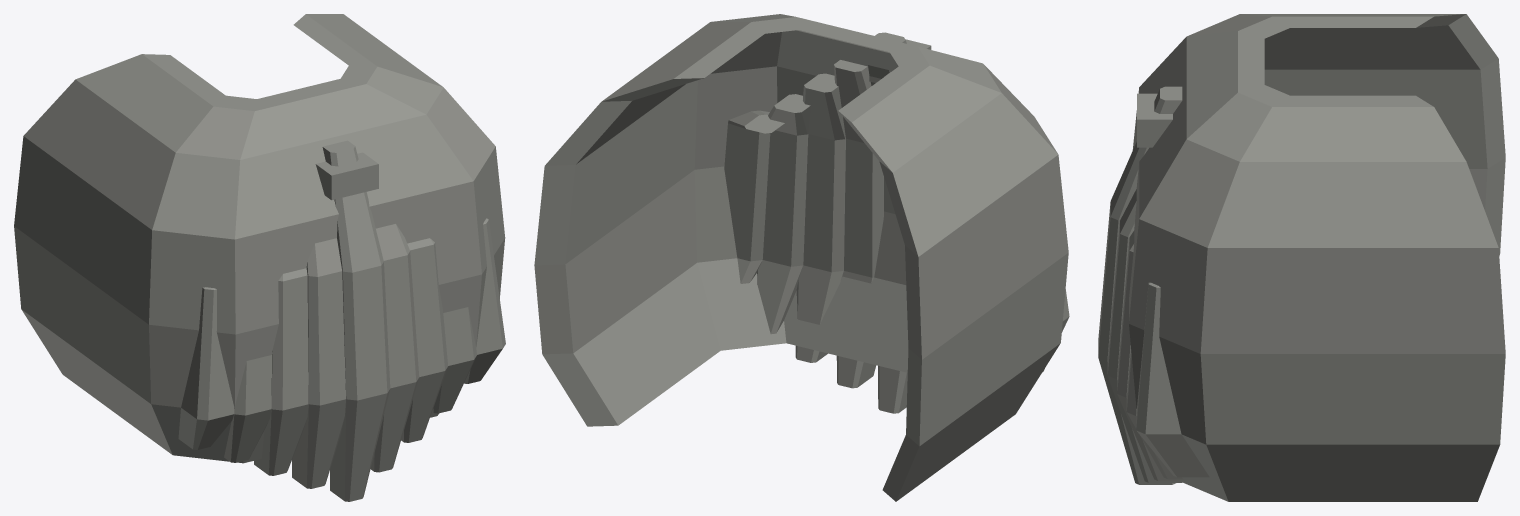
The picture shows the model from 3 angles, left to right: view 1: azimuth 30°, elevation 25°; view 2: azimuth 150°, elevation 25°; view 3: azimuth 270°, elevation 25°; orthographic projection. The views are drawn at different scales.
Parts seen in each view (by area): view 1: 现有短发后片 · 同用途配色; view 2: 现有短发后片 · 同用途配色; view 3: 现有短发后片 · 同用途配色.
Boxes of the visible parts, x1,y1,x2,y2 form: 现有短发后片 · 同用途配色: (14,14,505,501); 现有短发后片 · 同用途配色: (534,14,1069,501); 现有短发后片 · 同用途配色: (1098,14,1505,501).
Size of the model in its own units: 0.226 by 0.224 by 0.198.
2 materials, 2 textured.
